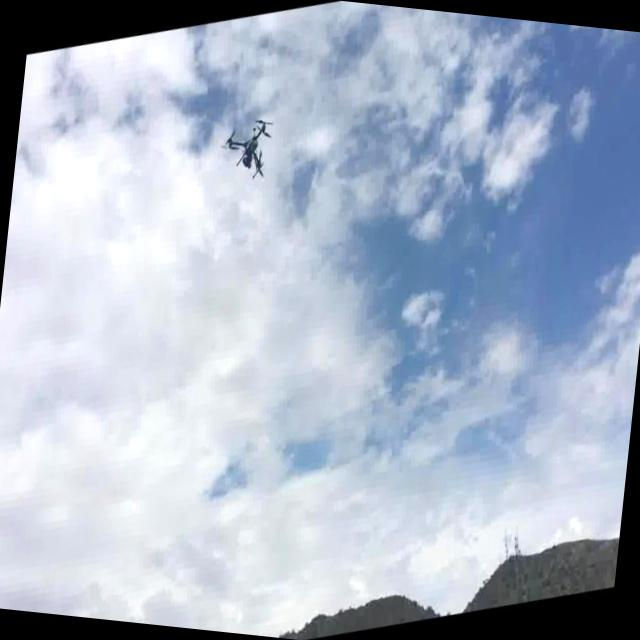drone: (215, 104, 282, 194)
